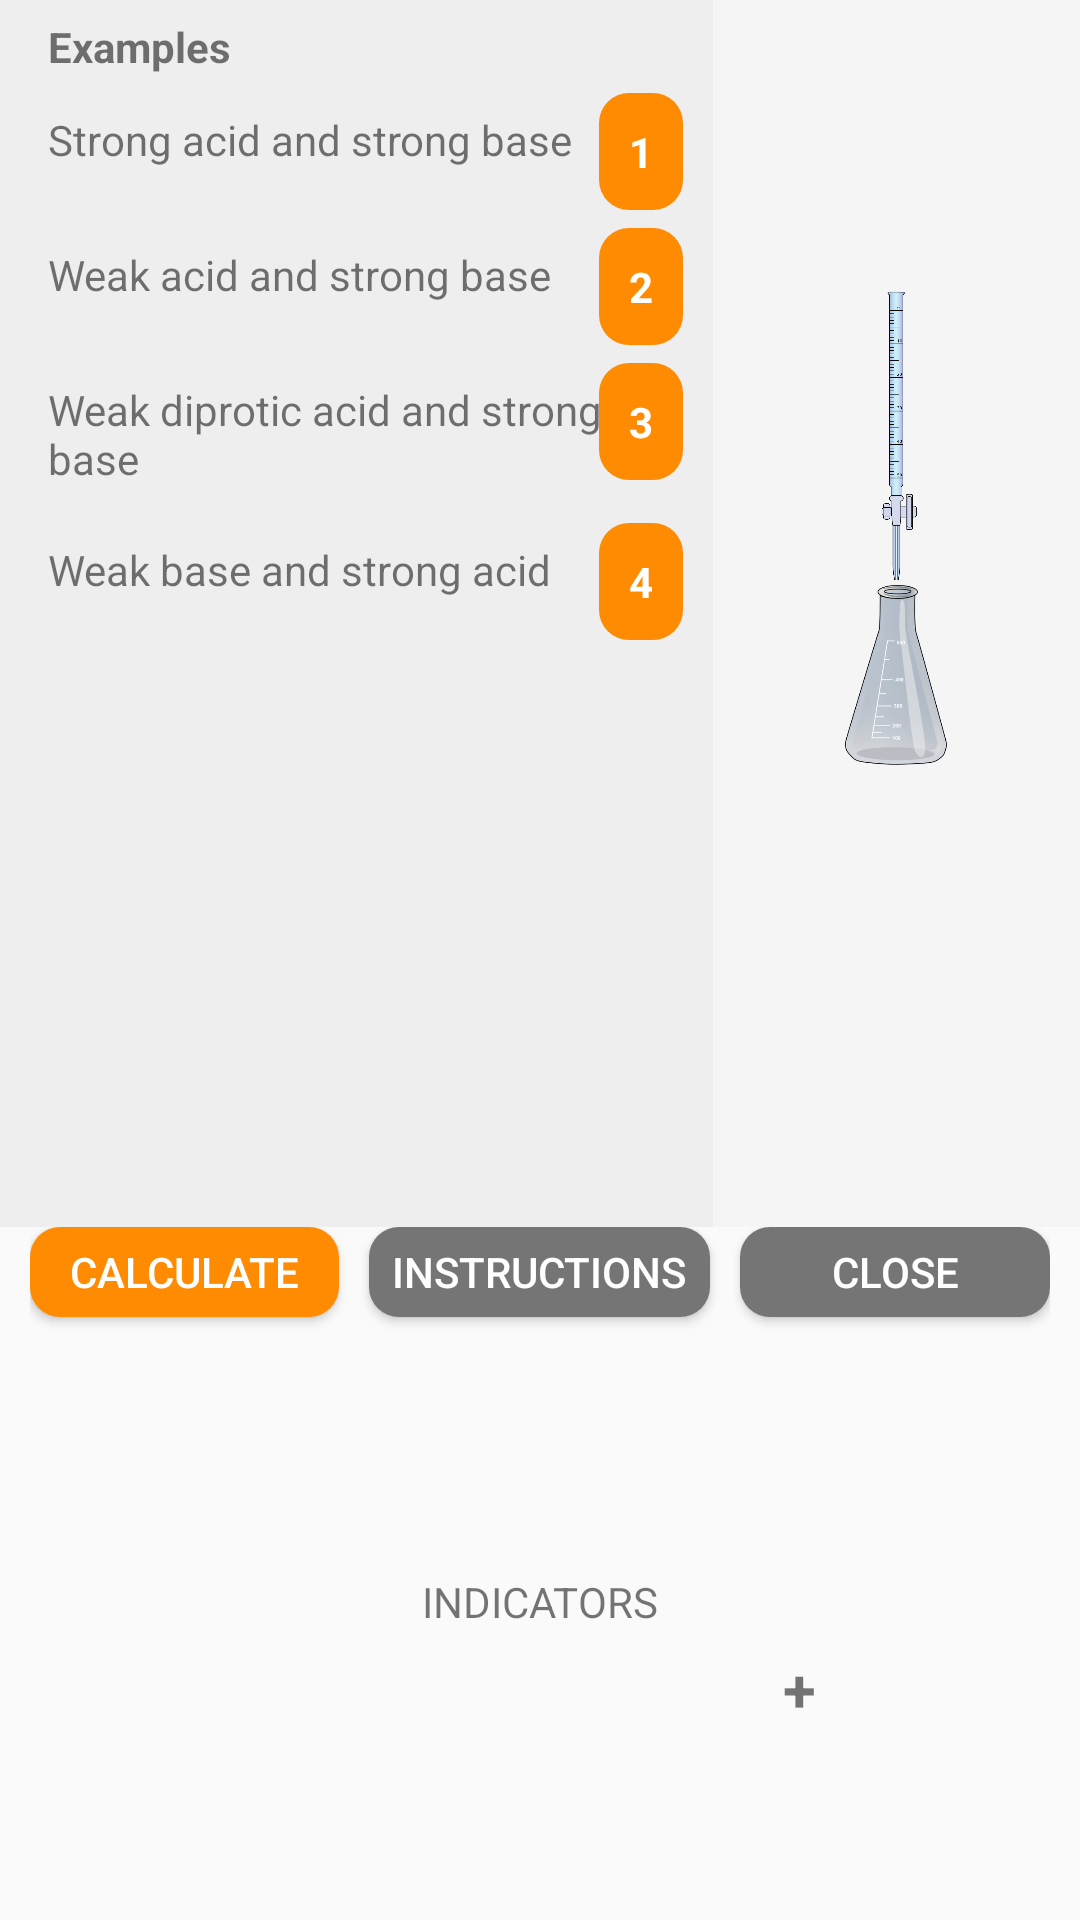

Locate icon controls on the screen. Image size 1080x1920, boxes as rect(x1, y1, x2, y2).
flask: rect(845, 585, 947, 765)
